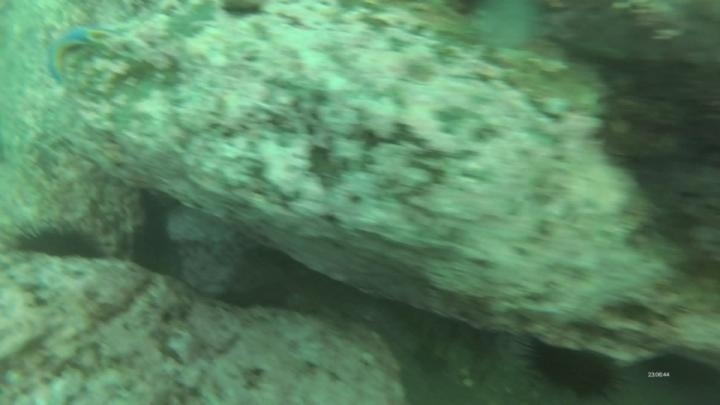echinus: (520, 335, 625, 403), (5, 213, 113, 264)
starfish: (40, 20, 99, 89)
